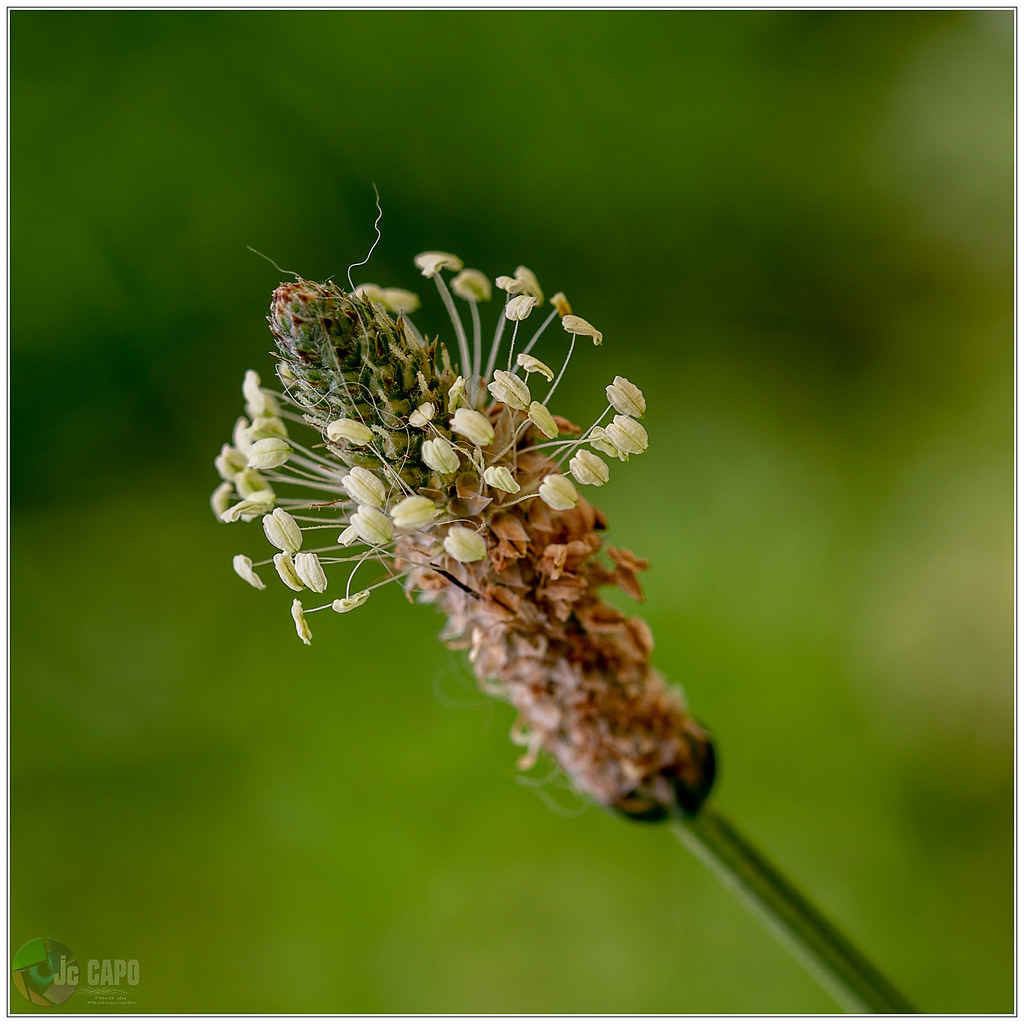buckhorn plantain: (163, 205, 864, 919)
